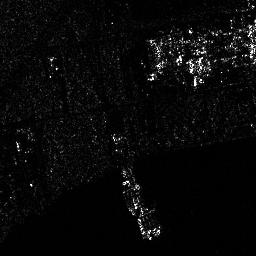ship: (121, 169, 139, 215), (135, 212, 150, 241)
